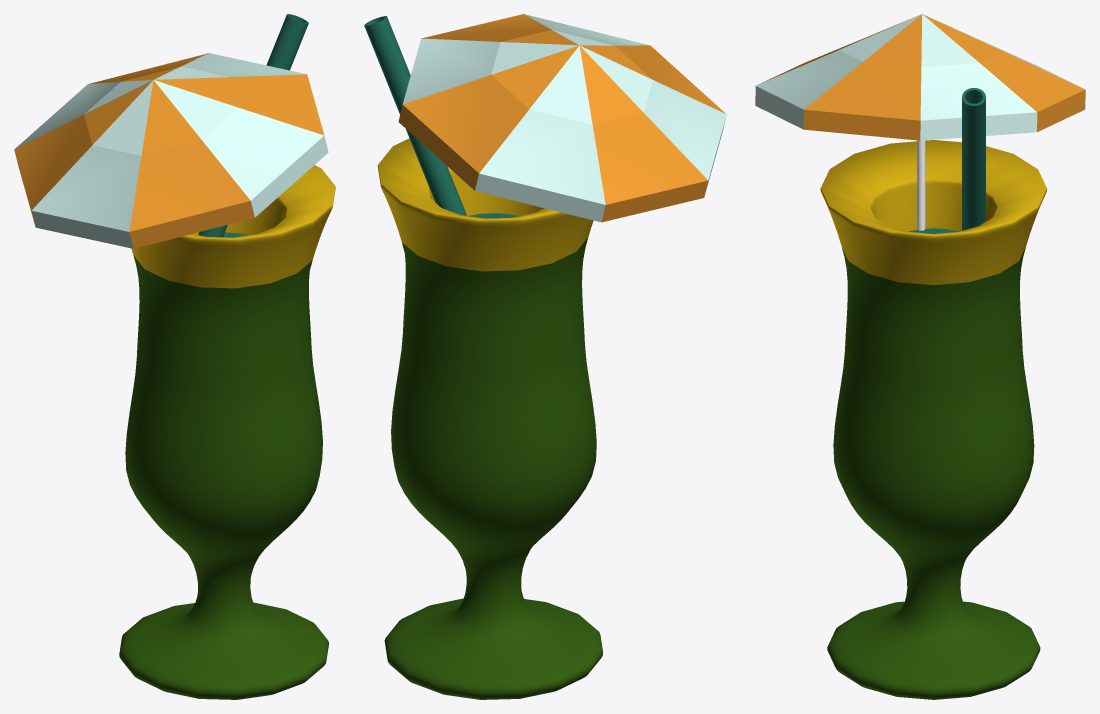
File: Coctail_whight_3_glass.FBX
3 renders of one model, left to right at view 1: azimuth 30°, elevation 25°; view 2: azimuth 150°, elevation 25°; view 3: azimuth 270°, elevation 25°, orthographic. The views are drawn at different scales.
Visible parts, largest first — view 1: Line001, Cone, Tube001; view 2: Line001, Cone, Tube001; view 3: Line001, Cone, Tube001, Cylinder001.
Boxes of the visible parts, x1,y1,x2,y2 form: Line001: (119,165,335,699); Cone: (14,53,328,248); Tube001: (198,14,308,237); Line001: (377,138,603,699); Cone: (398,14,726,222); Tube001: (364,16,466,215); Line001: (820,140,1047,699); Cone: (755,14,1085,140); Tube001: (962,88,985,230); Cylinder001: (917,140,925,230).
Bounding box in the file's own units: 55.14 × 108 × 51.78.
